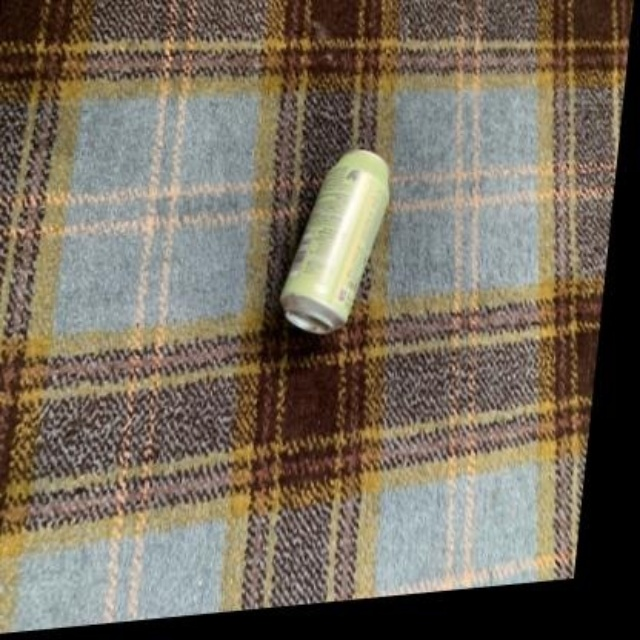trash: (280, 149, 388, 332)
